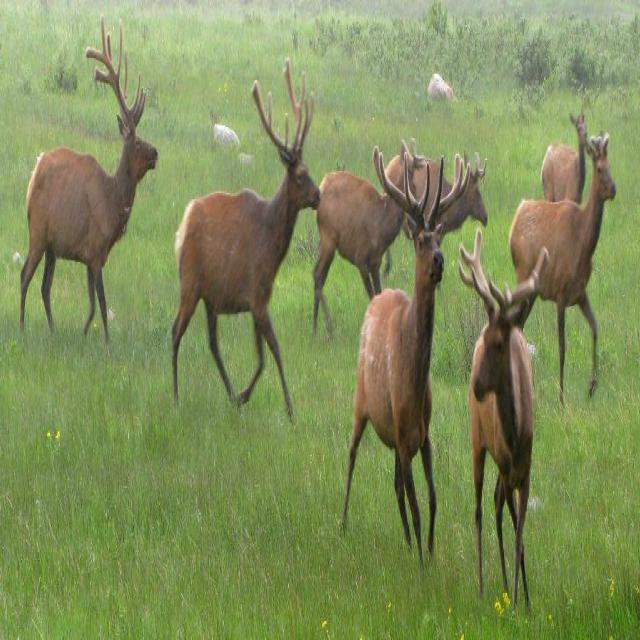Deer: (170, 55, 320, 428), (19, 15, 158, 350), (339, 154, 445, 571), (455, 231, 547, 613), (511, 132, 616, 414), (312, 140, 426, 340), (382, 149, 487, 276), (540, 106, 588, 201)
